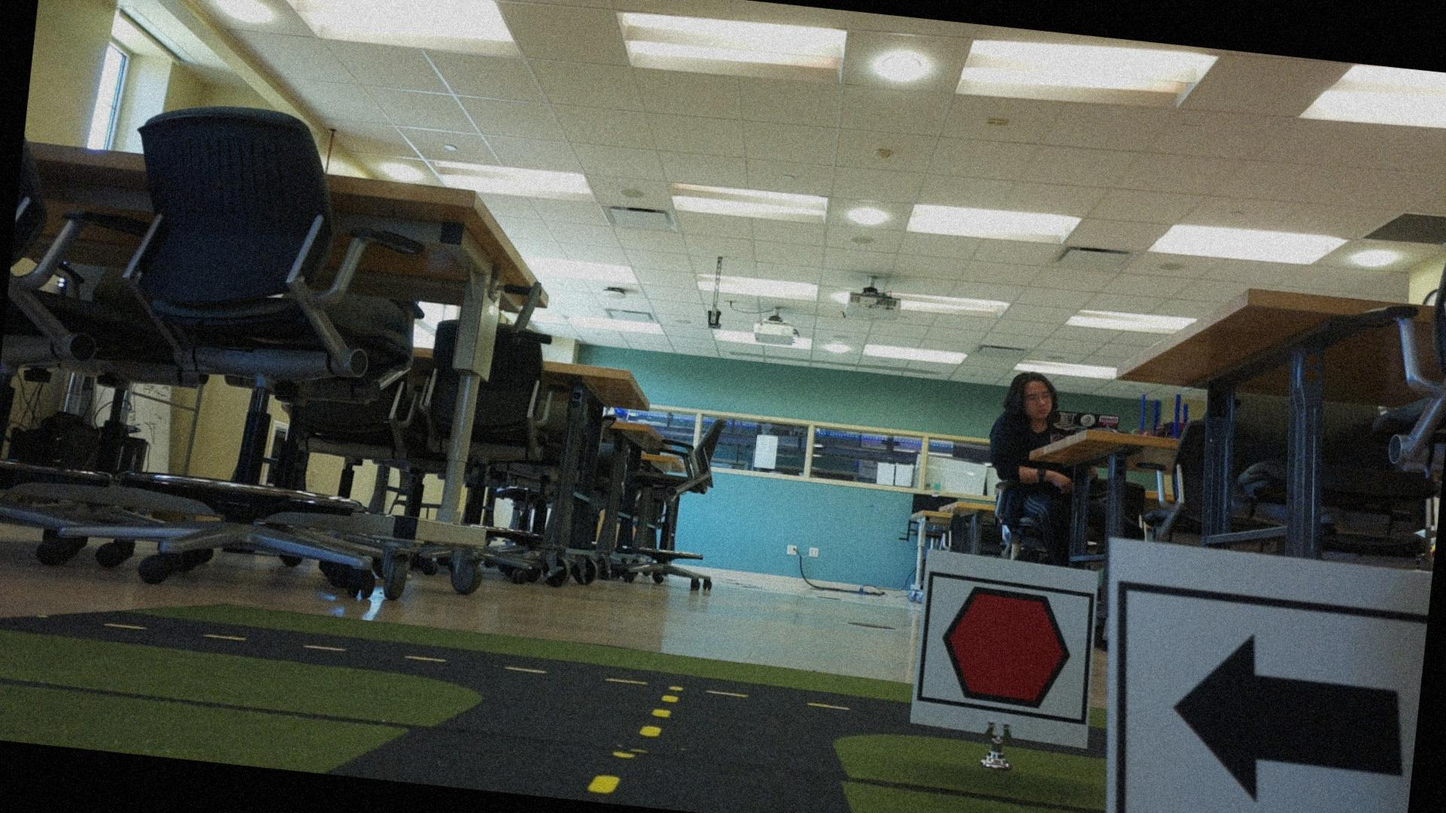stop: (915, 577, 1091, 719)
turnright: (1106, 588, 1422, 812)
yellowline: (587, 685, 681, 801)
